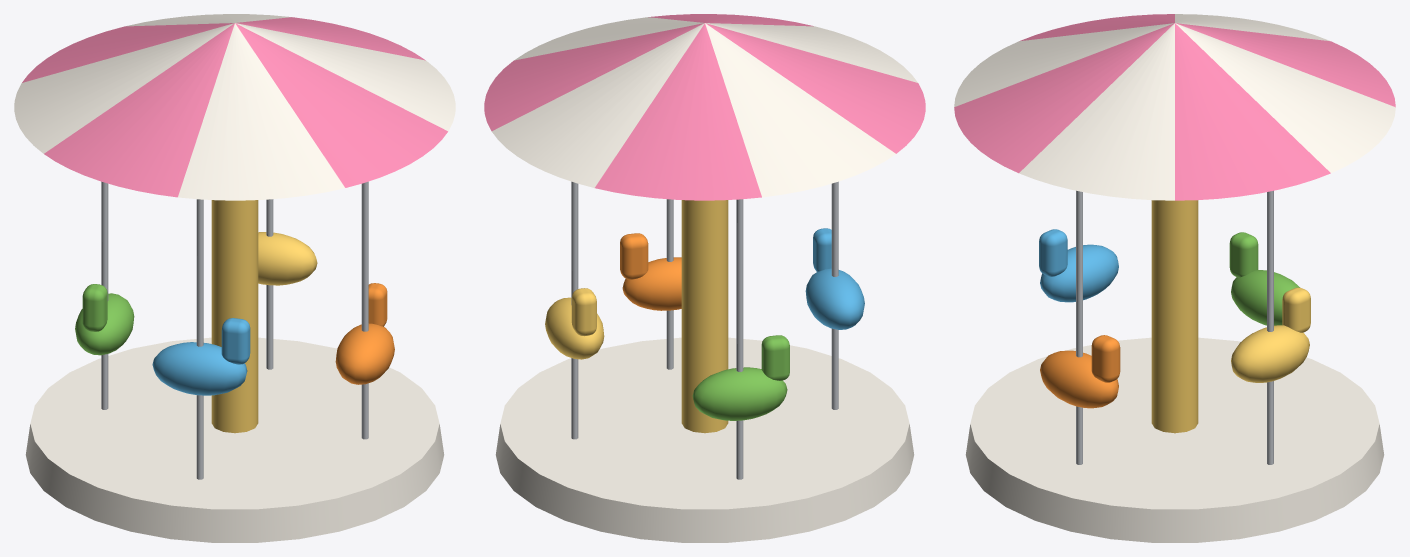
Rendered from kmerry-carousel.glb.
The picture shows the model from 3 angles, left to right: view 1: azimuth 30°, elevation 25°; view 2: azimuth 150°, elevation 25°; view 3: azimuth 270°, elevation 25°; orthographic projection.
Bounding box in the file's own units: 1.9 × 2.05 × 1.9.
